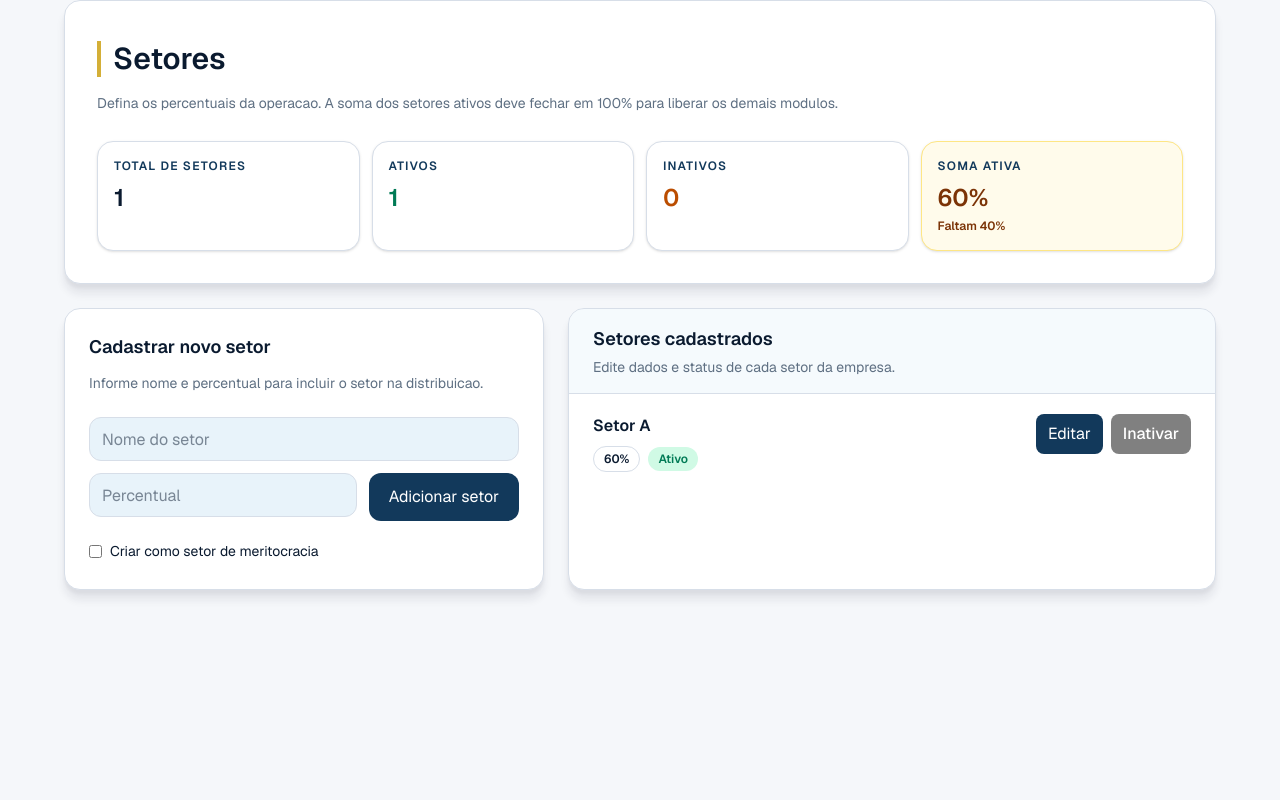
Test: SectorsClient › creates a new sector and updates UI
Step 1. Type "Setor B" into the field with placeholder "Nome do setor" → point(304, 439), box [89,417,519,461]
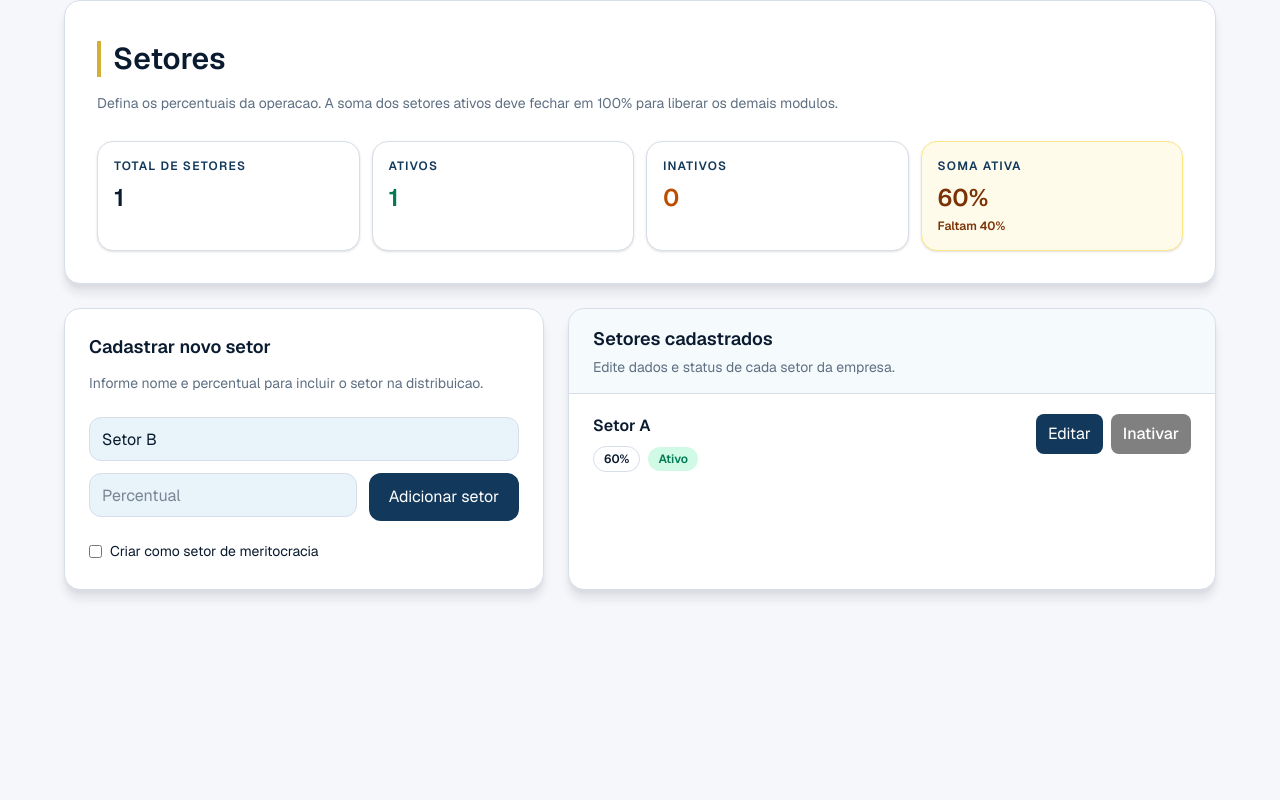
Step 2. Type "40" into the number field with placeholder "Percentual" → point(223, 495), box [89,473,357,517]
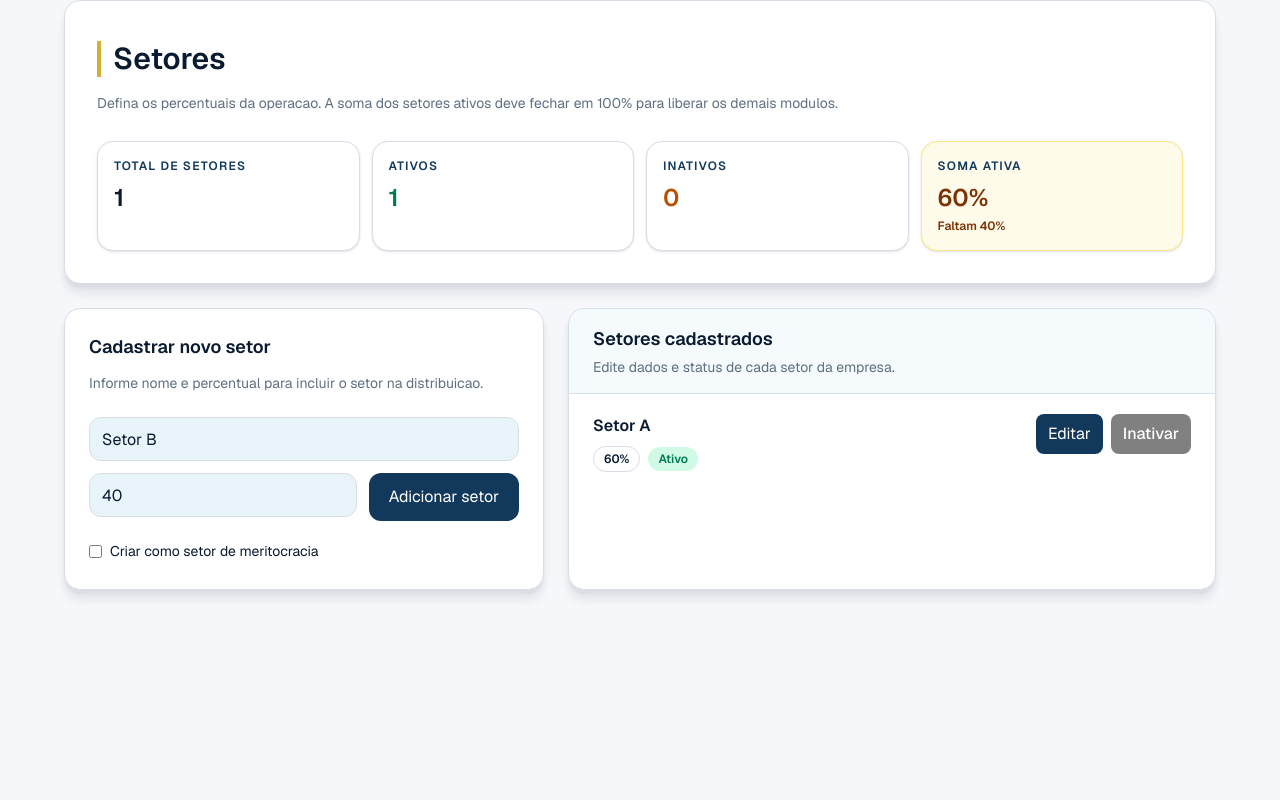
Step 3. Click the button "Adicionar setor" → point(444, 497), box [369,473,519,521]
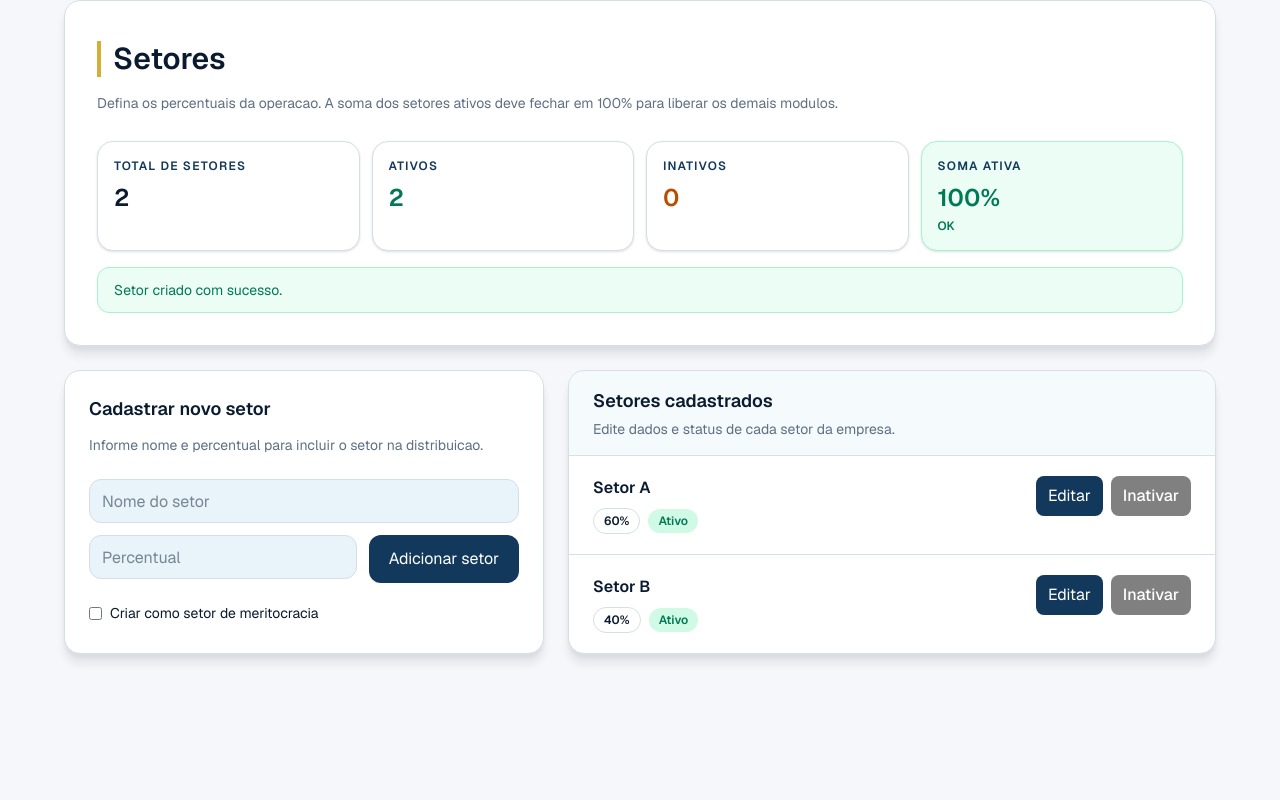
Check: the text "Setor criado com sucesso." is shown, box [97,267,1183,313]
Check: the text "Setor B" is shown, box [593,576,650,597]
